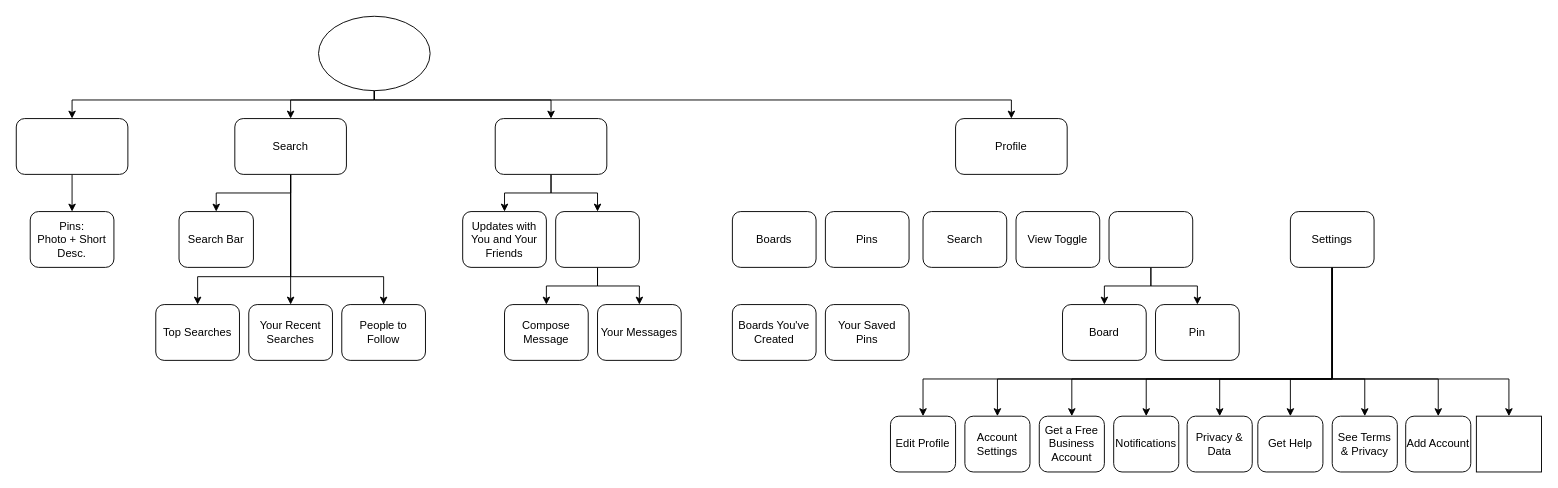
Some shapes in this 1558 by 488 pixel diagram are drawn without their labels. Here are the shapes that lost their labels. From the top down, the box of each, then its label:
(318, 15, 430, 91): Pinterest App
(15, 118, 128, 174): Home
(494, 118, 607, 174): Direct Messages
(555, 211, 639, 267): Inbox
(1108, 211, 1193, 267): Create New
(1475, 415, 1541, 472): Log Out
